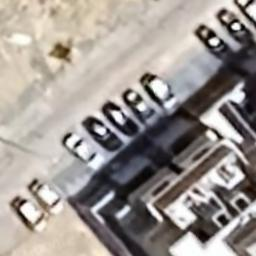SUV: (140, 70, 179, 112)
sedan: (62, 130, 106, 172), (193, 22, 236, 63), (100, 99, 142, 139), (121, 88, 163, 128), (82, 114, 126, 152), (215, 6, 253, 45)
van: (12, 198, 48, 236), (28, 181, 66, 216)
